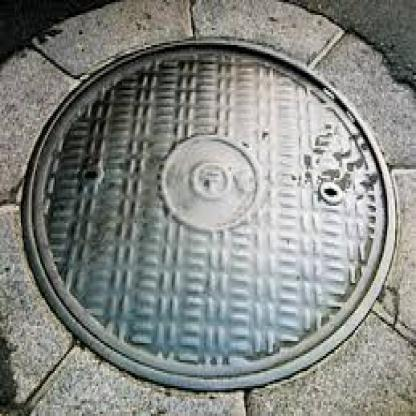closed manhole-not overflowing-: (30, 37, 401, 393)
